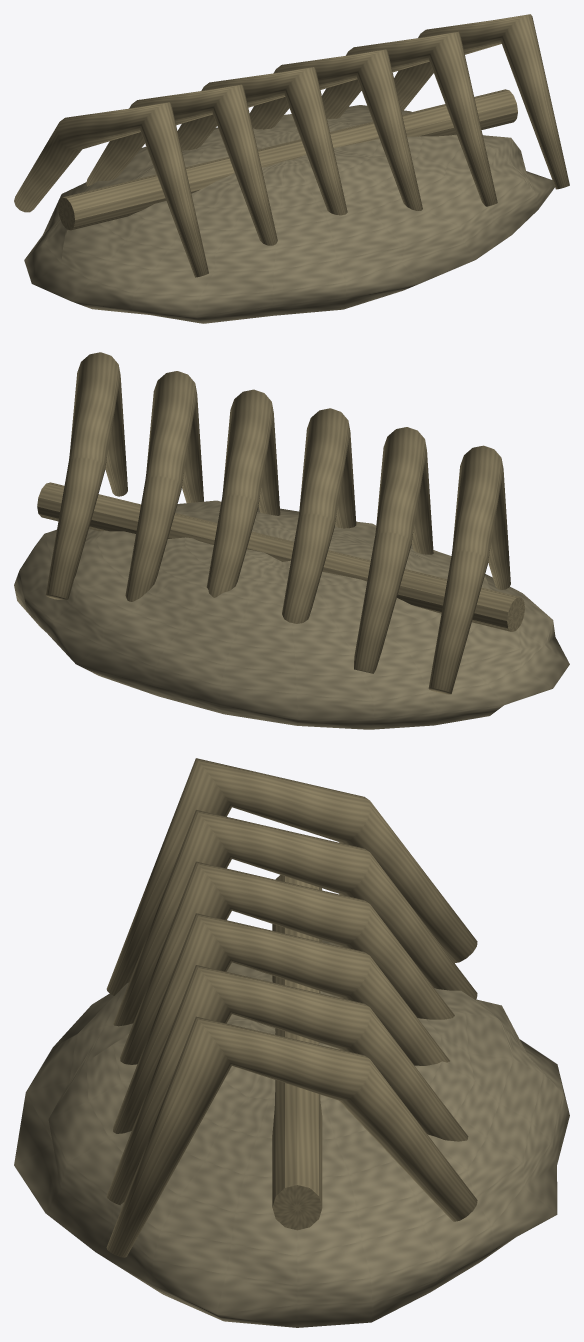
File: root_mat_bank_swamp_and_mangrove_22618.glb
The picture shows the model from 3 angles, top to bottom: view 1: azimuth 30°, elevation 25°; view 2: azimuth 150°, elevation 25°; view 3: azimuth 270°, elevation 25°; orthographic projection. The views are drawn at different scales.
Visible parts, largest first — view 1: root-mat-bank_0, root-mat-bank_1, root-mat-bank_7, root-mat-bank_2, root-mat-bank_6, root-mat-bank_5, root-mat-bank_4, root-mat-bank_3; view 2: root-mat-bank_0, root-mat-bank_1, root-mat-bank_6, root-mat-bank_2, root-mat-bank_5, root-mat-bank_3, root-mat-bank_4, root-mat-bank_7; view 3: root-mat-bank_0, root-mat-bank_6, root-mat-bank_1, root-mat-bank_5, root-mat-bank_2, root-mat-bank_4, root-mat-bank_3, root-mat-bank_7.
Part boxes in pixels (bbox=[...]): root-mat-bank_0: bbox=[24, 105, 554, 323]; root-mat-bank_1: bbox=[14, 102, 208, 277]; root-mat-bank_7: bbox=[58, 89, 517, 230]; root-mat-bank_2: bbox=[86, 84, 277, 245]; root-mat-bank_6: bbox=[394, 14, 569, 189]; root-mat-bank_5: bbox=[322, 31, 497, 206]; root-mat-bank_4: bbox=[249, 49, 422, 210]; root-mat-bank_3: bbox=[177, 67, 347, 215]; root-mat-bank_0: bbox=[14, 500, 569, 729]; root-mat-bank_1: bbox=[428, 445, 510, 694]; root-mat-bank_6: bbox=[45, 352, 127, 599]; root-mat-bank_2: bbox=[354, 427, 433, 673]; root-mat-bank_5: bbox=[125, 371, 203, 601]; root-mat-bank_3: bbox=[282, 408, 356, 623]; root-mat-bank_4: bbox=[206, 389, 280, 597]; root-mat-bank_7: bbox=[37, 482, 524, 631]; root-mat-bank_0: bbox=[14, 940, 569, 1327]; root-mat-bank_6: bbox=[106, 1016, 477, 1257]; root-mat-bank_1: bbox=[106, 758, 477, 995]; root-mat-bank_5: bbox=[106, 965, 468, 1205]; root-mat-bank_2: bbox=[113, 810, 477, 1026]; root-mat-bank_4: bbox=[113, 913, 449, 1133]; root-mat-bank_3: bbox=[120, 861, 454, 1064]; root-mat-bank_7: bbox=[272, 875, 322, 1230].
Bounding box in the file's own units: 3.04 × 1.14 × 2.
2 materials, 2 textured.
